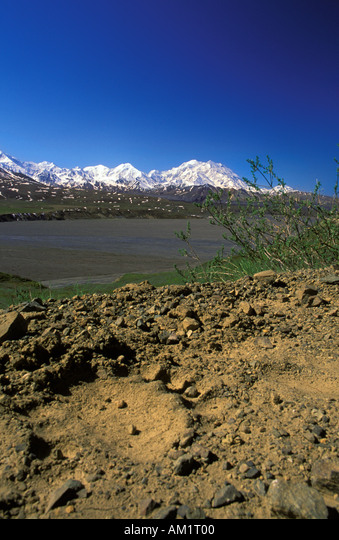bear: (67, 338, 241, 476)
